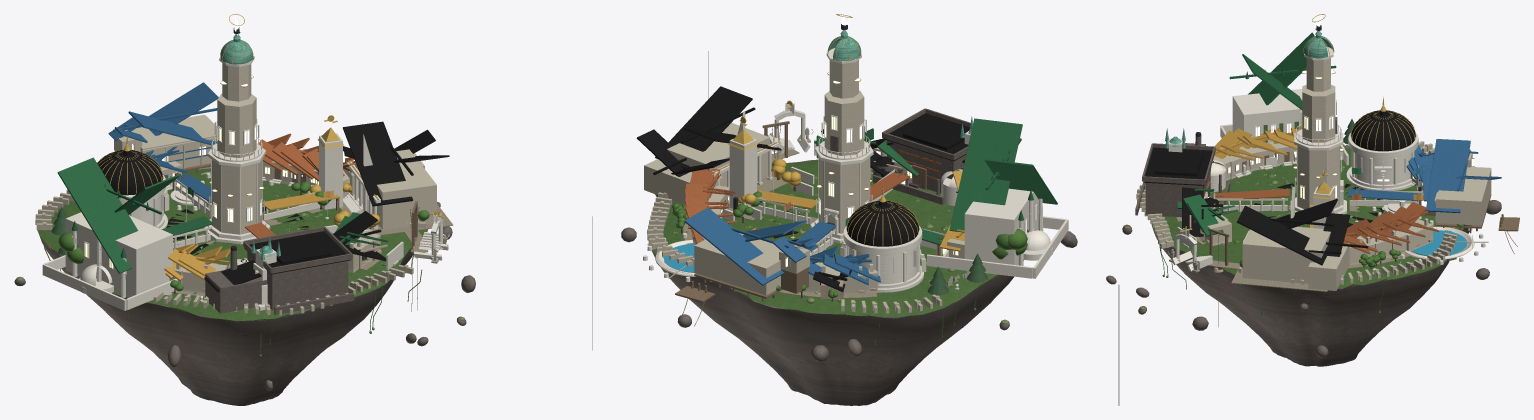
File: academy.glb
The picture shows the model from 3 angles, left to right: view 1: azimuth 30°, elevation 25°; view 2: azimuth 150°, elevation 25°; view 3: azimuth 270°, elevation 25°; orthographic projection. The views are drawn at different scales.
Visible parts, largest first — view 1: ISL_rock, ISL_top, Z05_LIN_LIN_hall, Z05_LIN_LIN_roof_slope1, Z01_TWR_TWR_low, Z04_DAW_DAW_hall, Z04_DAW_DAW_roof_slope-1, Z06_HAM_HAM_hall, Z01_TWR_TWR_mid, Z09_LIB_LIB_dome, Z07_SEA_SEA_hull, Z06_HAM_HAM_forge (+15 smaller); view 2: ISL_rock, ISL_top, Z05_LIN_LIN_roof_slope-1, Z05_LIN_LIN_hall, Z07_SEA_SEA_hull, Z01_TWR_TWR_low, Z09_LIB_LIB_dome, Z07_SEA_SEA_roof_slope1, Z04_DAW_DAW_roof_slope1, Z01_TWR_TWR_mid, Z04_DAW_DAW_hall, Z04_DAW_DAW_bellt (+24 smaller); view 3: ISL_rock, ISL_top, Z04_DAW_DAW_hall, Z05_LIN_LIN_hall, Z07_SEA_SEA_hull, Z07_SEA_SEA_roof_slope-1, Z09_LIB_LIB_dome, Z01_TWR_TWR_low, Z01_TWR_TWR_mid, Z04_DAW_DAW_roof_slope1, Z06_HAM_HAM_hall, Z04_DAW_DAW_wing (+20 smaller).
Boxes of the visible parts, x1,y1,x2,y2 form: ISL_rock: (39, 229, 428, 405); ISL_top: (37, 169, 427, 320); Z05_LIN_LIN_hall: (65, 212, 172, 297); Z05_LIN_LIN_roof_slope1: (57, 157, 138, 273); Z01_TWR_TWR_low: (212, 160, 261, 234); Z04_DAW_DAW_hall: (355, 149, 436, 229); Z04_DAW_DAW_roof_slope-1: (343, 121, 412, 206); Z06_HAM_HAM_hall: (247, 251, 348, 310); Z01_TWR_TWR_mid: (217, 93, 256, 157); Z09_LIB_LIB_dome: (97, 150, 162, 193); Z07_SEA_SEA_hull: (134, 114, 217, 168); Z06_HAM_HAM_forge: (205, 270, 267, 313); ISL_rock: (652, 155, 1023, 405); ISL_top: (652, 156, 997, 317); Z05_LIN_LIN_roof_slope-1: (949, 118, 1022, 232); Z05_LIN_LIN_hall: (964, 178, 1042, 265); Z07_SEA_SEA_hull: (694, 233, 780, 295); Z01_TWR_TWR_low: (819, 157, 869, 233); Z09_LIB_LIB_dome: (847, 201, 918, 245); Z07_SEA_SEA_roof_slope1: (684, 207, 783, 285); Z04_DAW_DAW_roof_slope1: (655, 86, 752, 168); Z01_TWR_TWR_mid: (824, 90, 864, 155); Z04_DAW_DAW_hall: (667, 122, 769, 186); Z04_DAW_DAW_bellt: (729, 138, 756, 208); ISL_rock: (1152, 145, 1469, 366); ISL_top: (1151, 146, 1463, 287); Z04_DAW_DAW_hall: (1242, 226, 1330, 283); Z05_LIN_LIN_hall: (1232, 89, 1302, 143); Z07_SEA_SEA_hull: (1436, 167, 1491, 225); Z07_SEA_SEA_roof_slope-1: (1426, 139, 1470, 213); Z09_LIB_LIB_dome: (1351, 110, 1415, 149); Z01_TWR_TWR_low: (1297, 146, 1339, 209); Z01_TWR_TWR_mid: (1302, 84, 1335, 142); Z04_DAW_DAW_roof_slope1: (1236, 205, 1330, 265); Z06_HAM_HAM_hall: (1145, 167, 1211, 217); Z04_DAW_DAW_wing: (1308, 243, 1349, 290).
Size of the model in its own units: 79.33 by 65.07 by 71.95.
53 materials, 29 textured.
